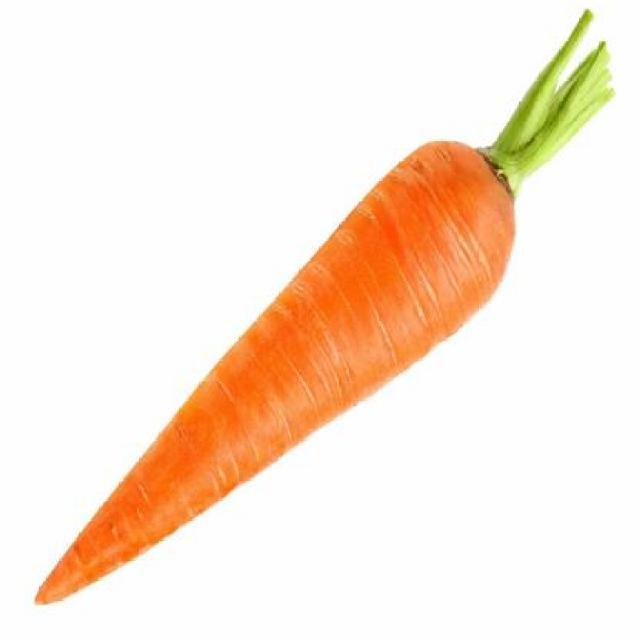carrot: (29, 132, 518, 615)
